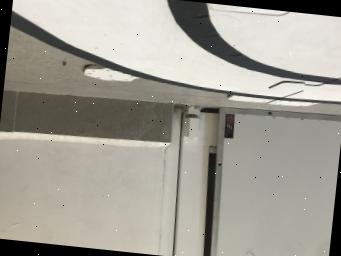street: (10, 0, 341, 104), (10, 0, 341, 104), (10, 0, 341, 104)
